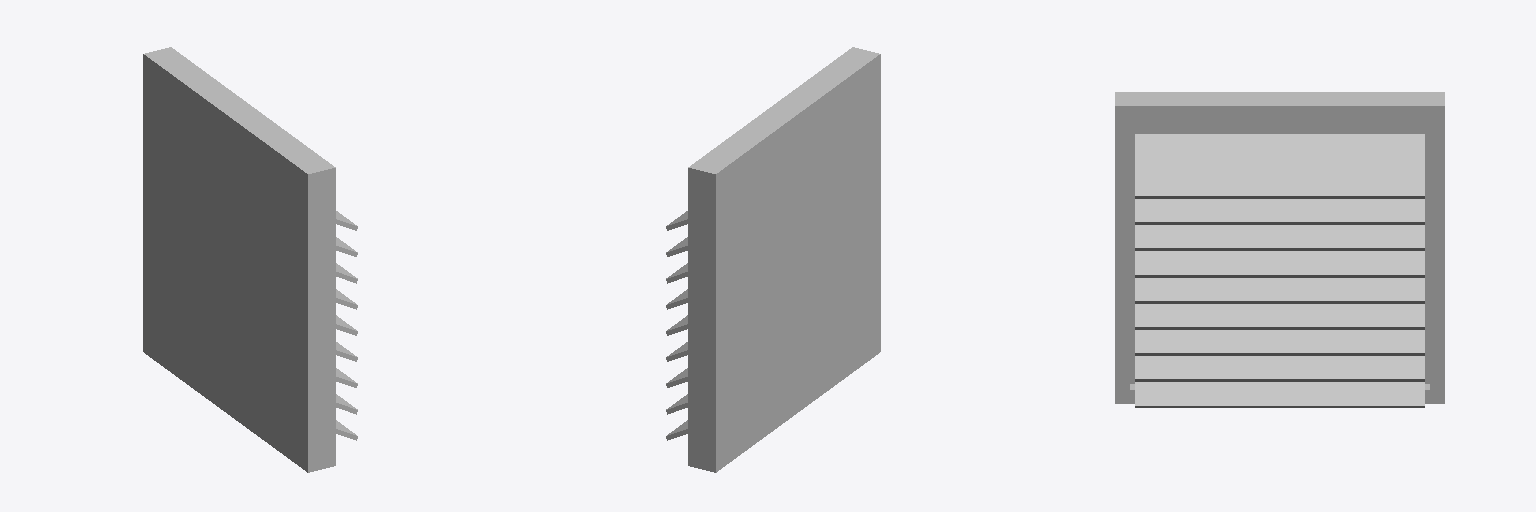
The model's file is VentSmall.obj.
3 views of the same model, side by side, from view 1: azimuth 30°, elevation 25°; view 2: azimuth 150°, elevation 25°; view 3: azimuth 270°, elevation 25° (orthographic).
Visible parts, largest first — view 1: Small_Vent_Cube.003; view 2: Small_Vent_Cube.003; view 3: Small_Vent_Cube.003.
Boxes of the visible parts, <box> form: Small_Vent_Cube.003: <box>143,47,357,472</box>; Small_Vent_Cube.003: <box>666,47,880,472</box>; Small_Vent_Cube.003: <box>1115,92,1444,407</box>.
Bounding box in the file's own units: 0.4244 × 2 × 2.